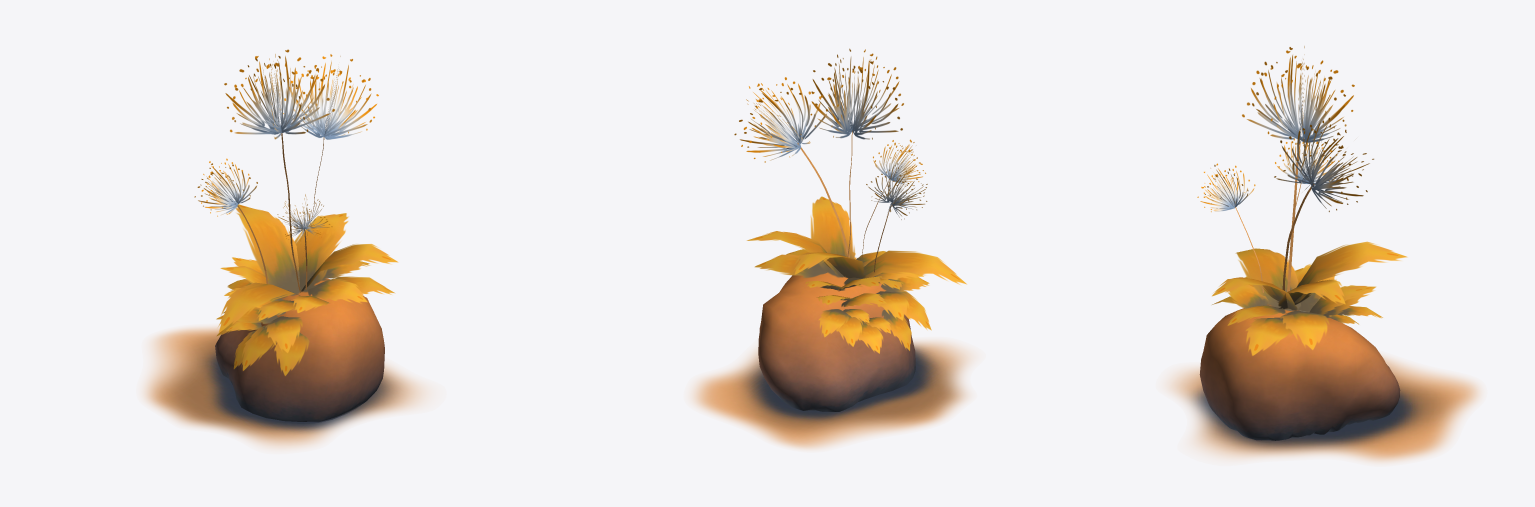
The model's file is leaf-transformed.glb.
3 renders of one model, left to right at view 1: azimuth 30°, elevation 25°; view 2: azimuth 150°, elevation 25°; view 3: azimuth 270°, elevation 25°, orthographic. The views are drawn at different scales.
Parts seen in each view (by area): view 1: Plane_005, rock_001_6_0, Plane_021_4_0, Plane_030_10_0, Plane_039; view 2: rock_001_6_0, Plane_021_4_0, Plane_005, Plane_030_10_0, Plane_039; view 3: rock_001_6_0, Plane_021_4_0, Plane_005, Plane_030_10_0, Plane_039.
Part boxes in pixels (<box>): Plane_005: <box>216,204,398,375</box>; rock_001_6_0: <box>215,278,384,421</box>; Plane_021_4_0: <box>143,326,427,448</box>; Plane_030_10_0: <box>194,49,378,241</box>; Plane_039: <box>237,133,324,292</box>; rock_001_6_0: <box>758,272,915,411</box>; Plane_021_4_0: <box>691,340,972,449</box>; Plane_005: <box>747,196,966,353</box>; Plane_030_10_0: <box>734,48,927,219</box>; Plane_039: <box>797,131,891,277</box>; rock_001_6_0: <box>1199,304,1400,440</box>; Plane_021_4_0: <box>1167,355,1480,462</box>; Plane_005: <box>1212,241,1407,355</box>; Plane_030_10_0: <box>1197,46,1373,212</box>; Plane_039: <box>1235,140,1314,292</box>.
Bounding box in the file's own units: 2.29 × 2.34 × 2.29.
5 materials, 4 textured.
